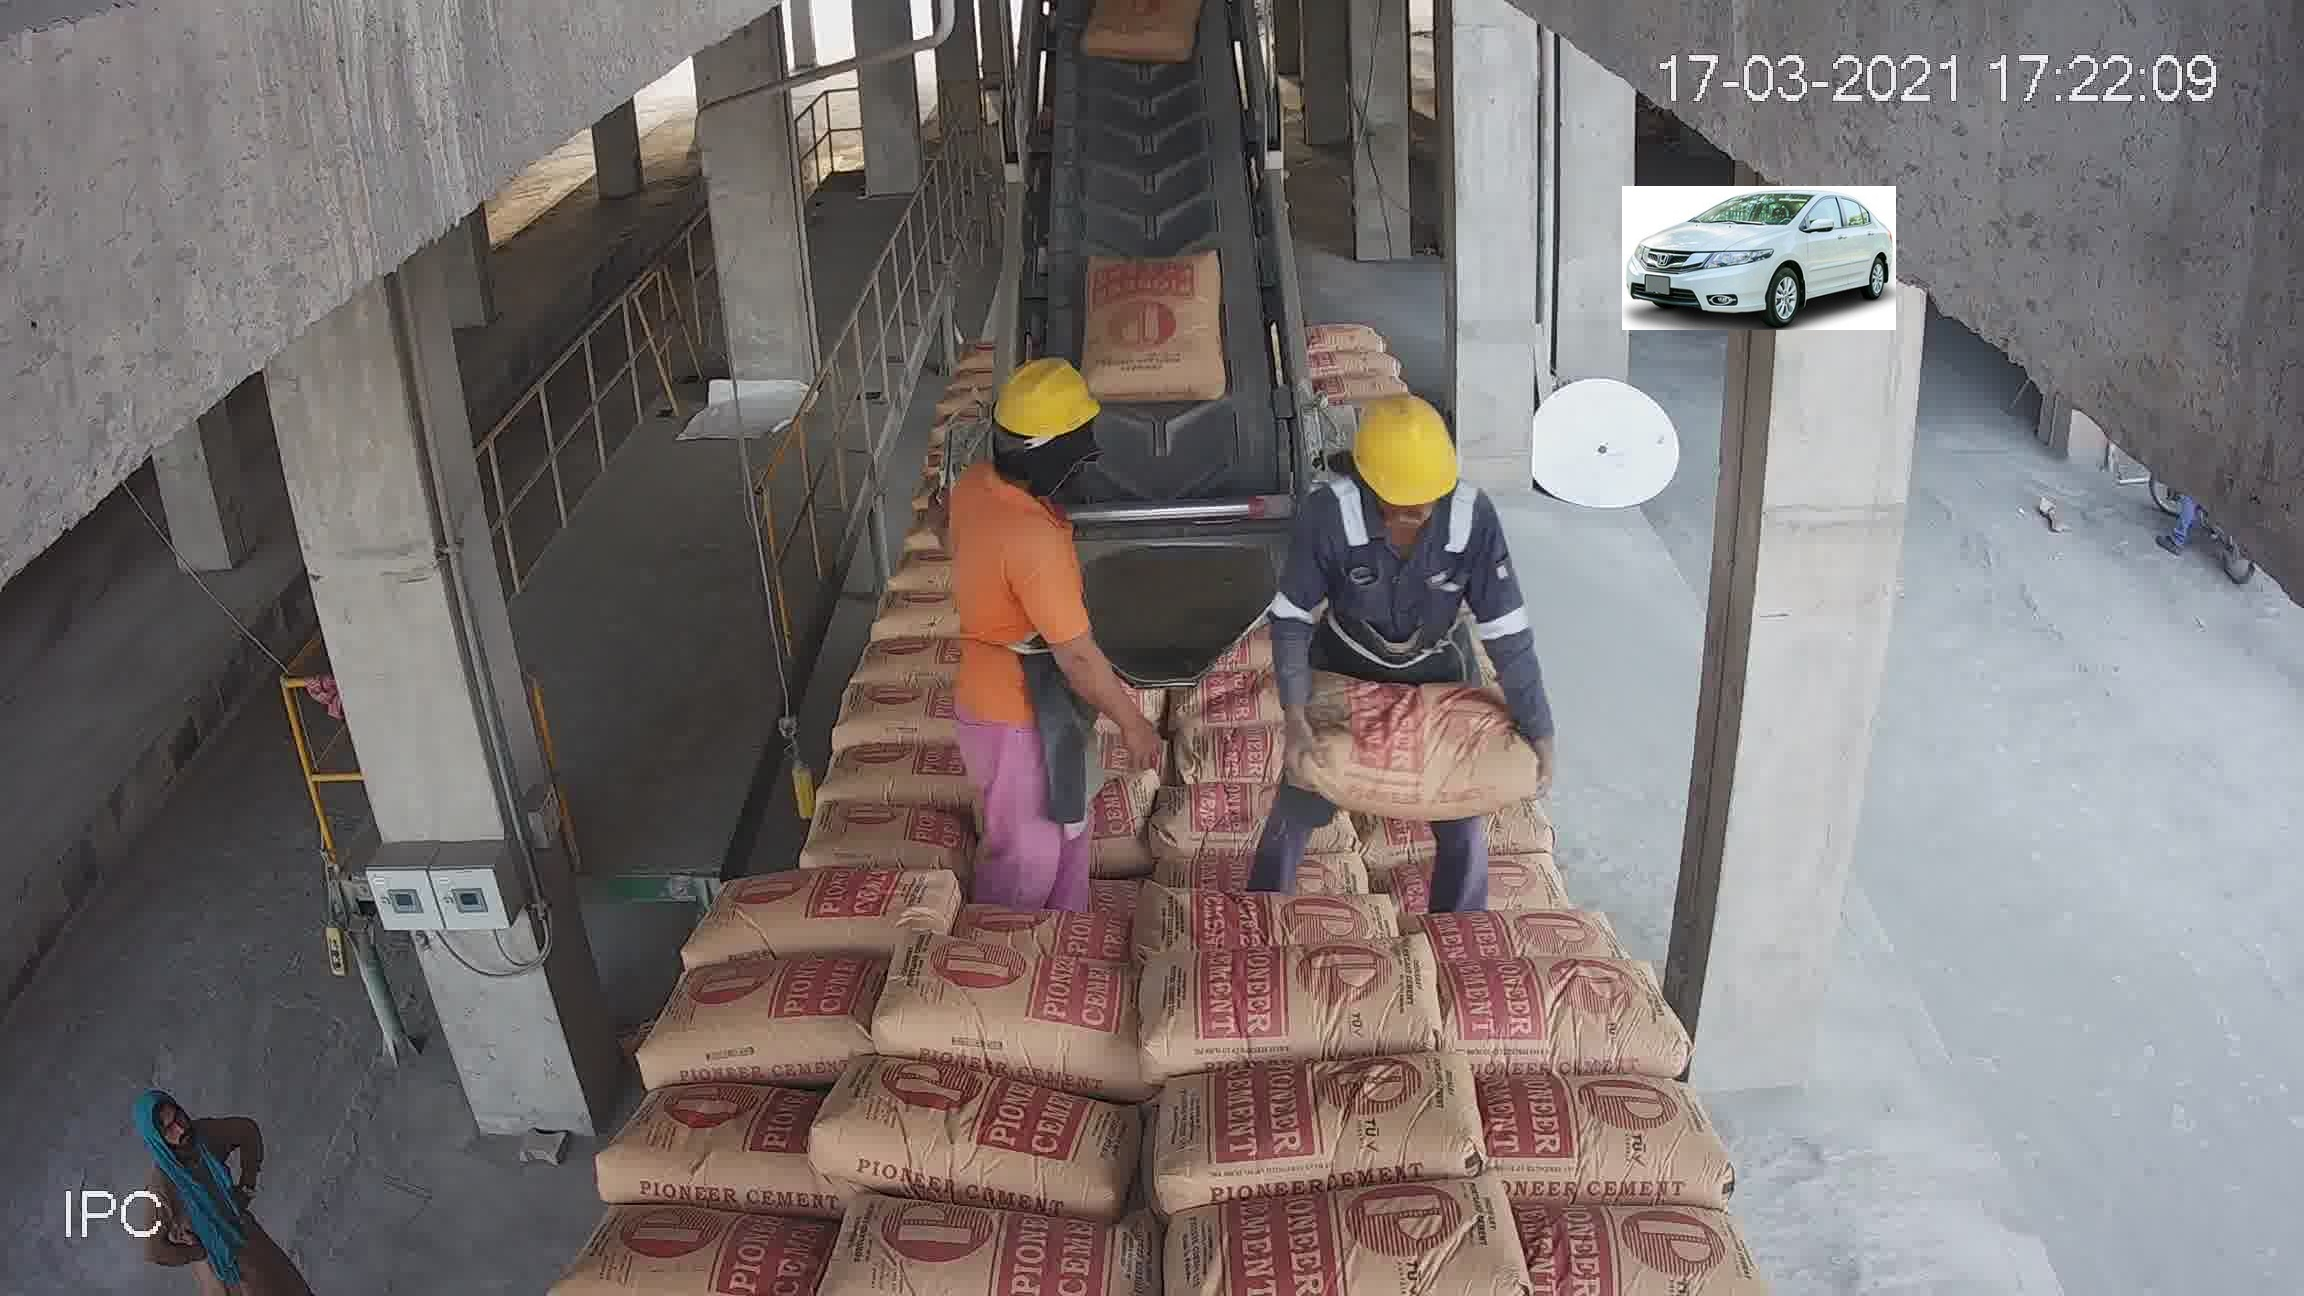bag: (1082, 263, 1188, 415)
bag_h: (794, 1048, 1169, 1201), (1187, 1030, 1470, 1188), (619, 943, 880, 1105), (1165, 938, 1468, 1067), (1188, 1188, 1541, 1296), (883, 945, 1138, 1079), (571, 1070, 831, 1201), (1131, 720, 1402, 831), (1495, 1078, 1715, 1207), (741, 685, 987, 791), (802, 1215, 1154, 1290), (1453, 956, 1671, 1071), (1179, 839, 1427, 938), (888, 848, 1169, 934), (729, 772, 924, 885), (570, 1203, 813, 1291), (695, 859, 889, 967), (908, 750, 1161, 832), (1532, 1214, 1774, 1296), (1440, 862, 1630, 959), (1410, 777, 1600, 855), (1016, 565, 1173, 638), (1388, 641, 1505, 722), (1348, 600, 1483, 660), (1298, 446, 1443, 502), (1048, 673, 1169, 737), (1361, 554, 1483, 611), (1396, 718, 1554, 755), (842, 630, 943, 684), (1340, 483, 1457, 529), (1317, 419, 1431, 457), (1347, 524, 1465, 557), (1078, 620, 1158, 668)
belt: (1036, 0, 1290, 427)
